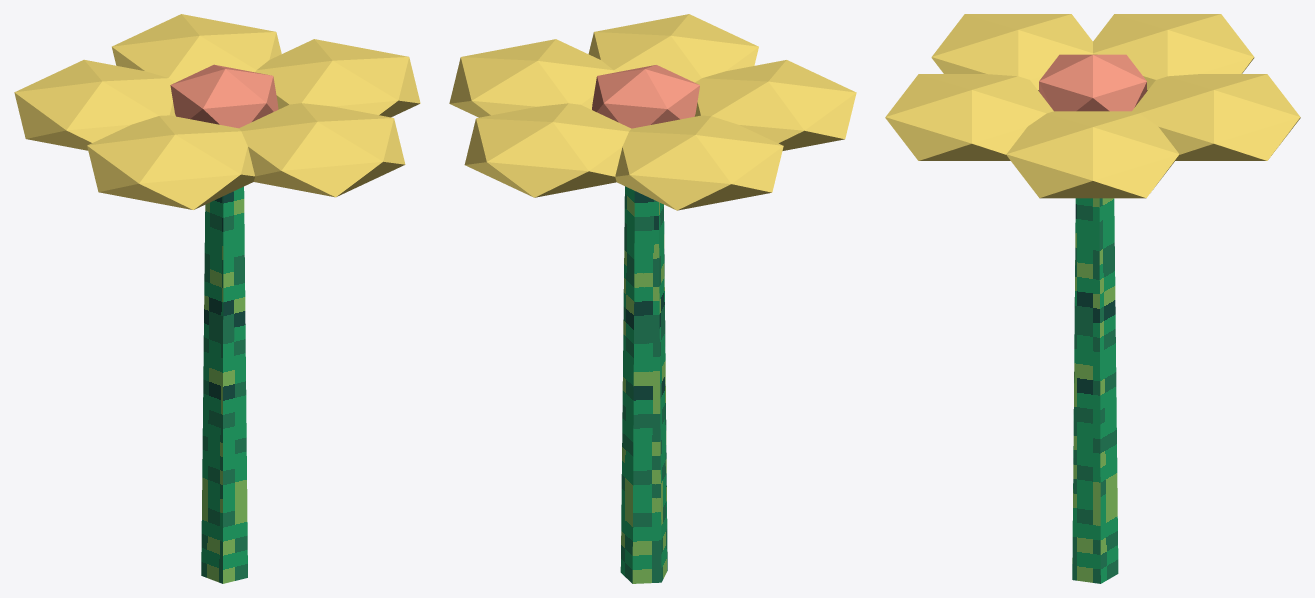
File: a06_flor_grande_2.glb
The picture shows the model from 3 angles, left to right: view 1: azimuth 30°, elevation 25°; view 2: azimuth 150°, elevation 25°; view 3: azimuth 270°, elevation 25°; orthographic projection. The views are drawn at different scales.
Visible parts, largest first — view 1: a06_flor_grande_2; view 2: a06_flor_grande_2; view 3: a06_flor_grande_2.
Boxes of the visible parts, box(x1,y1,x2,y2) form: a06_flor_grande_2: box(14, 14, 420, 583); a06_flor_grande_2: box(449, 14, 856, 583); a06_flor_grande_2: box(885, 14, 1300, 583).
Bounding box in the file's own units: 1.62 × 2.25 × 1.63.
3 materials, 1 textured.
